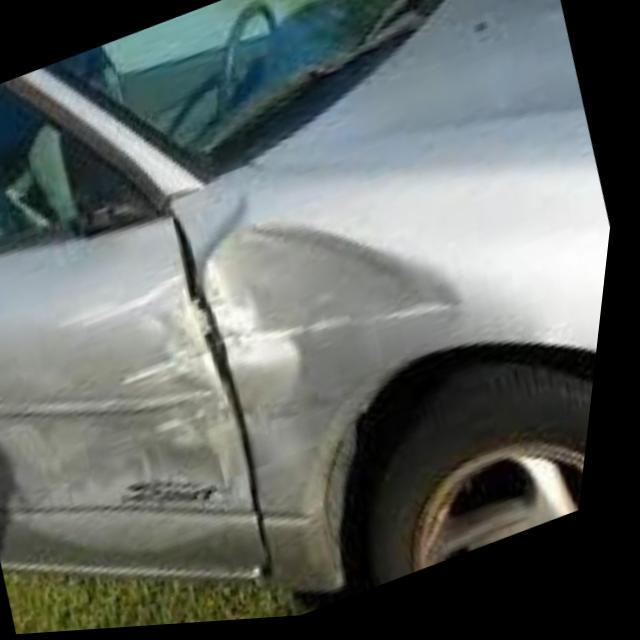dent: (36, 191, 469, 533)
